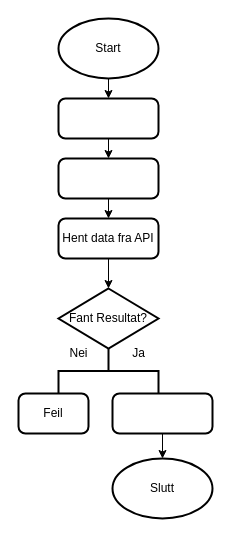
Some shapes in this 230 by 536 pixel diagram are drawn without their labels. The box of each missing label's shape, as (x1, y1, x2, y2) in pixels:
Bruker skriver navn: (57, 97, 159, 139)
Trykker knapp: (57, 157, 159, 199)
Vis data/graf: (111, 392, 213, 434)
